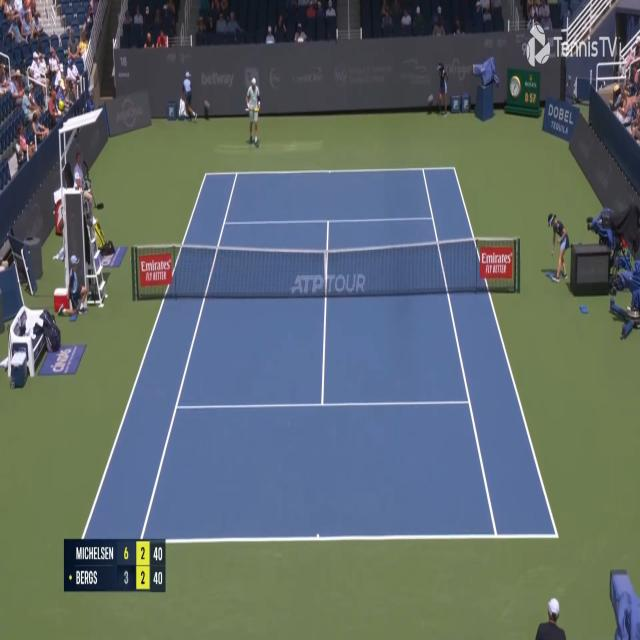tennis-player: (245, 76, 261, 147)
